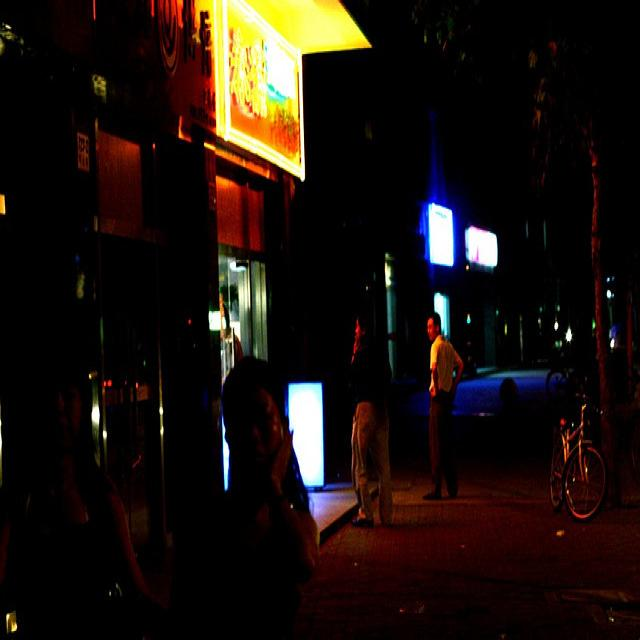Bicycle: (536, 384, 640, 543)
People: (337, 305, 407, 554), (415, 297, 472, 504)
